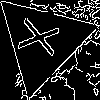X: (17, 17, 69, 60)
